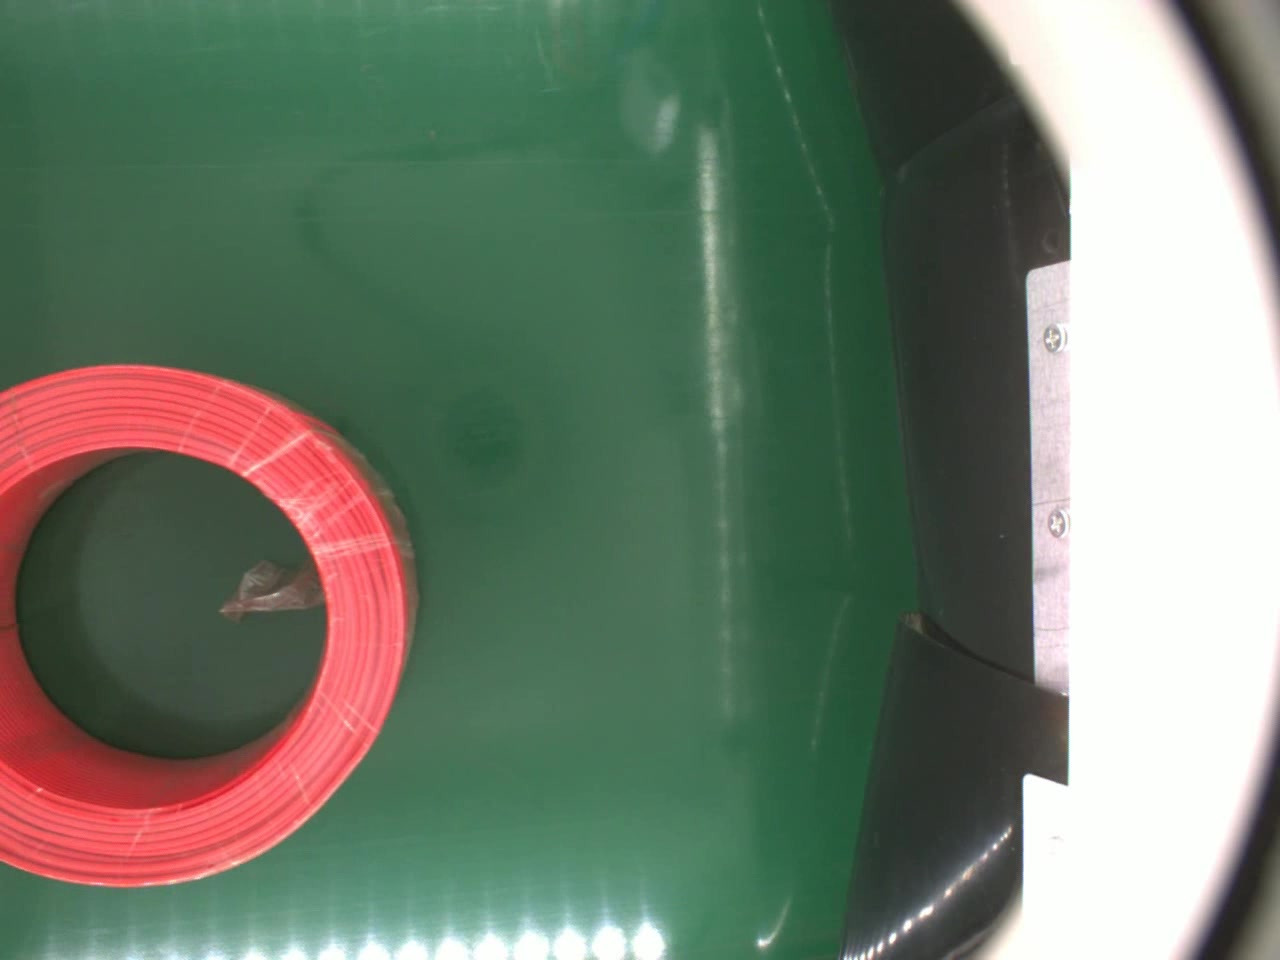red: (0, 361, 420, 893)
